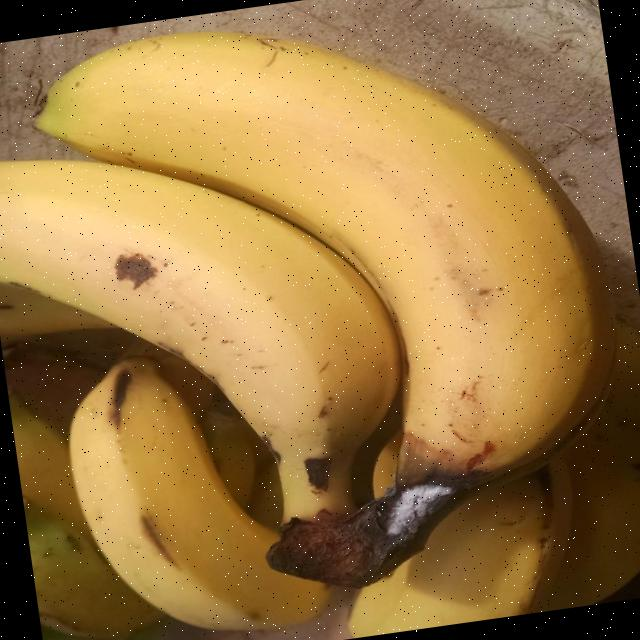banana: (33, 27, 616, 488), (0, 156, 404, 521)
